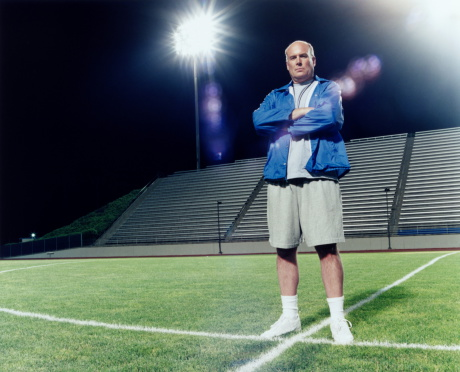em pe: (240, 37, 346, 326)
